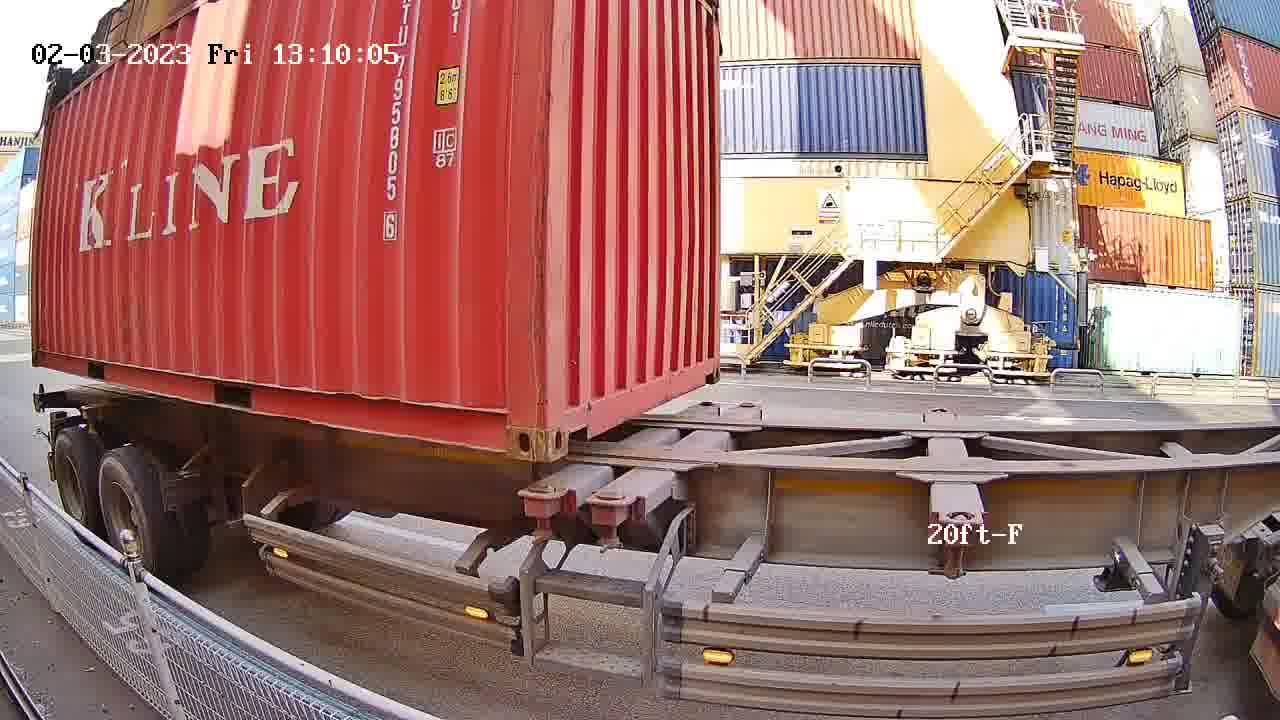Chassis: (588, 401, 765, 527), (521, 402, 718, 500)
Cone: (588, 491, 641, 555), (515, 481, 565, 546)
Hole_L: (544, 368, 599, 464)
Hole_R: (479, 385, 543, 465), (701, 344, 721, 384)
Tire: (99, 454, 158, 580), (53, 433, 97, 540)
